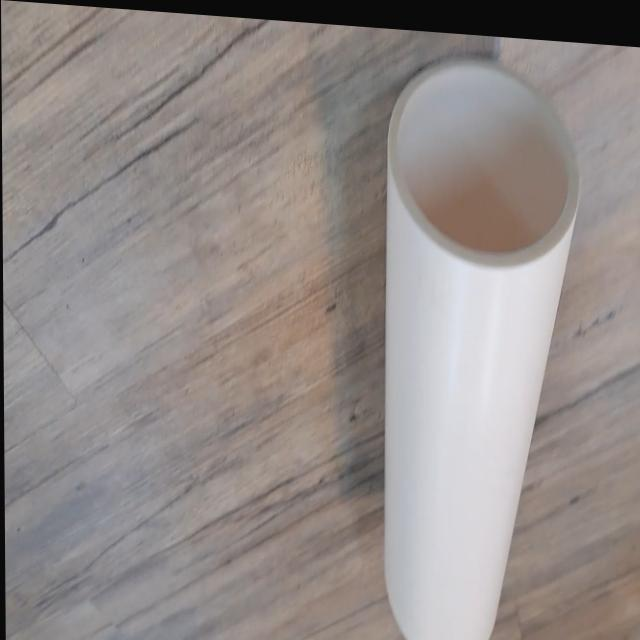CORAL: (367, 46, 591, 640)
